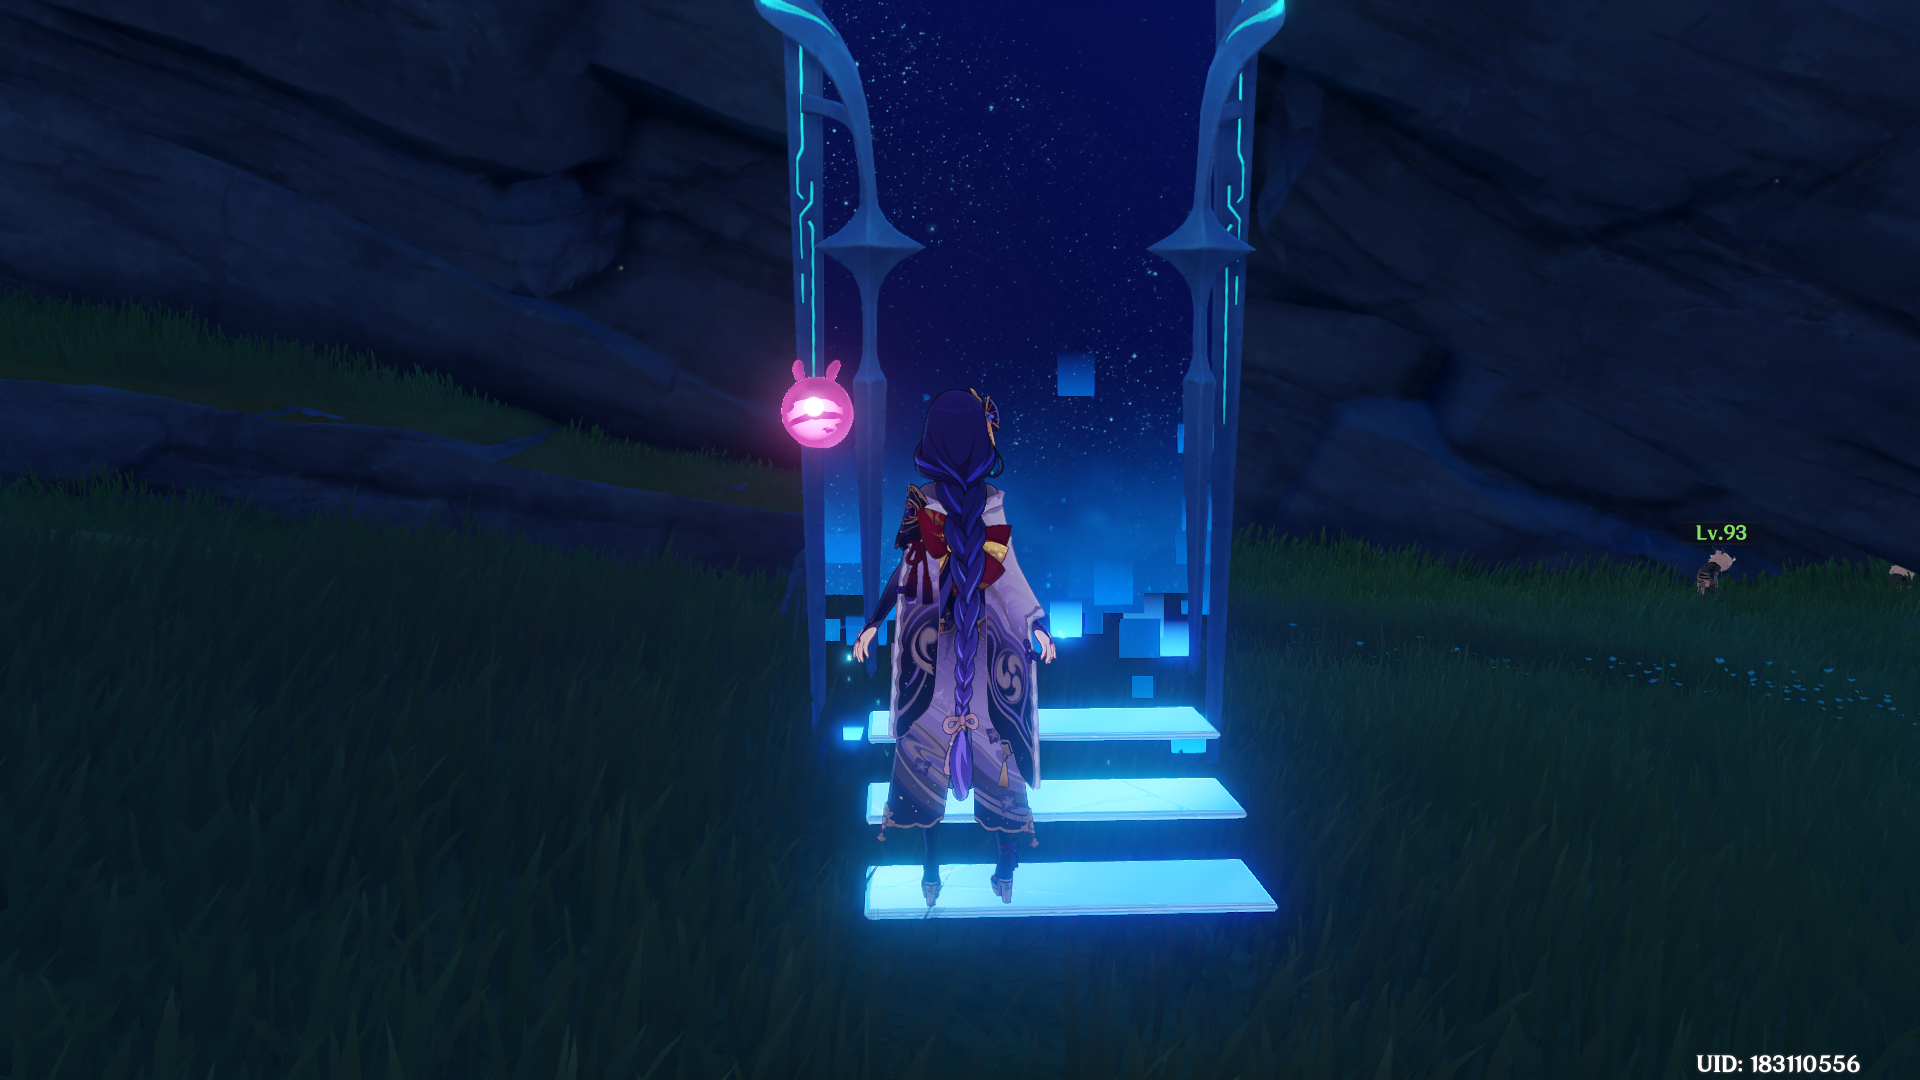character: (807, 371, 1135, 919)
hili: (1677, 545, 1756, 603)
